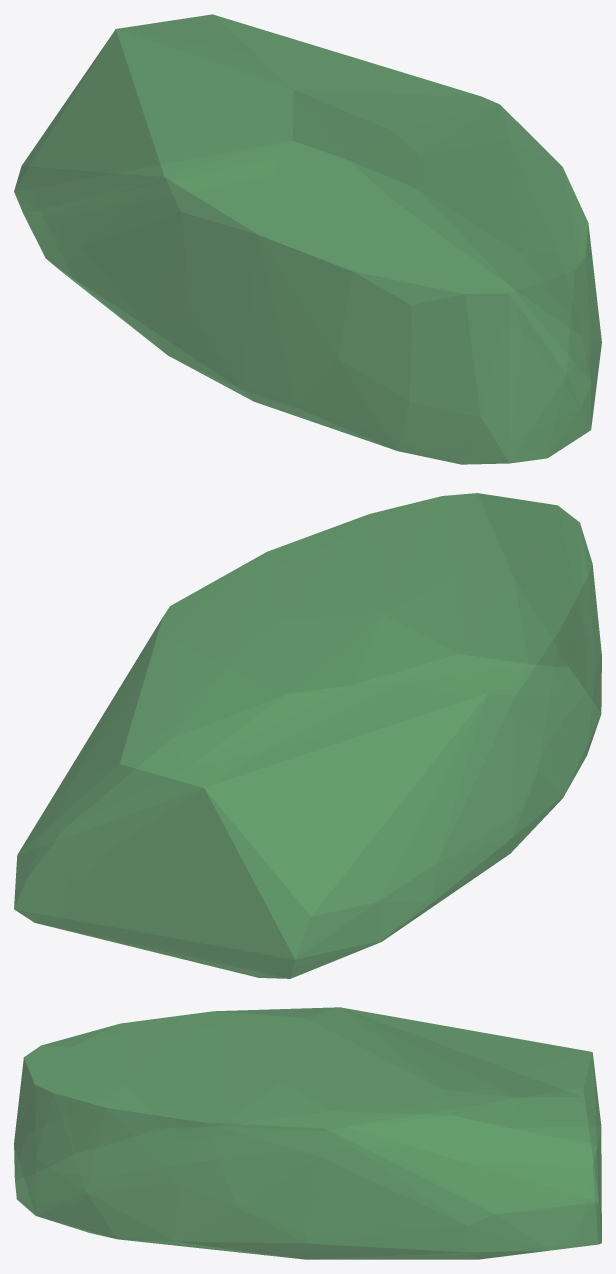
3 renders of one model, top to bottom at view 1: azimuth 30°, elevation 25°; view 2: azimuth 150°, elevation 25°; view 3: azimuth 270°, elevation 25°, orthographic. The views are drawn at different scales.
Visible parts, largest first — view 1: Shape_IndexedFaceSet.003_Shape_IndexedFaceSet.20380; view 2: Shape_IndexedFaceSet.003_Shape_IndexedFaceSet.20380; view 3: Shape_IndexedFaceSet.003_Shape_IndexedFaceSet.20380.
Boxes of the visible parts, x1=… form: Shape_IndexedFaceSet.003_Shape_IndexedFaceSet.20380: x1=14, y1=14, x2=601, y2=464; Shape_IndexedFaceSet.003_Shape_IndexedFaceSet.20380: x1=14, y1=493, x2=601, y2=978; Shape_IndexedFaceSet.003_Shape_IndexedFaceSet.20380: x1=14, y1=1007, x2=601, y2=1259.
Bounding box in the file's own units: 0.4738 × 0.228 × 0.8884.
